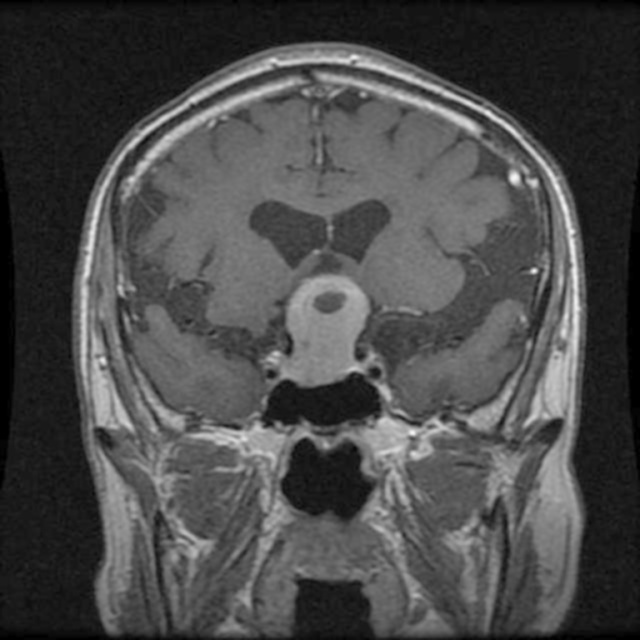no tumor: (285, 276, 366, 392)
